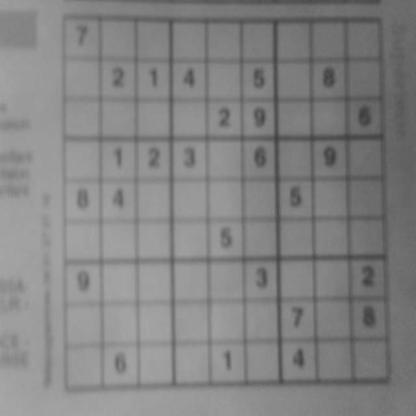sudoku: (58, 9, 394, 396)
